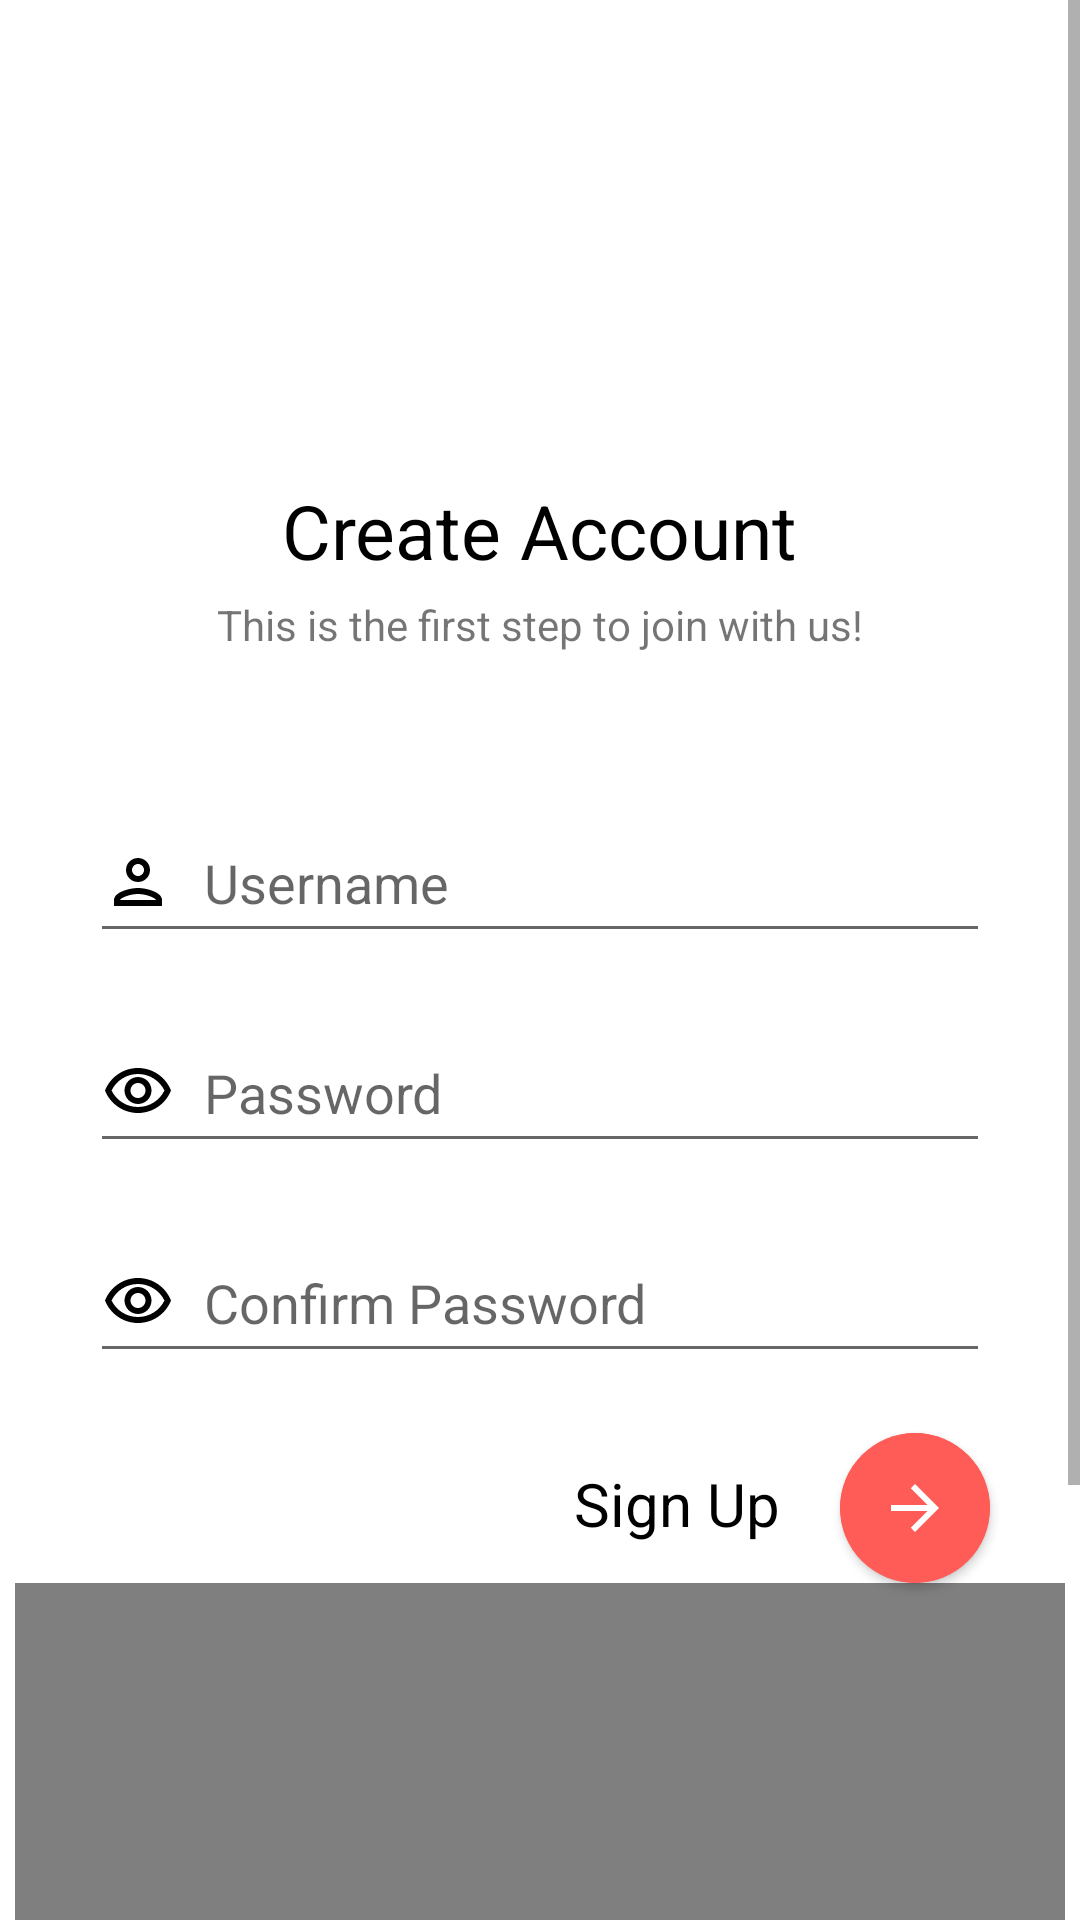

Screen size 1080x1920. Icon name, then its box in pixels as (x1, y1, x2, y2):
arrow: (840, 1433, 990, 1583)
